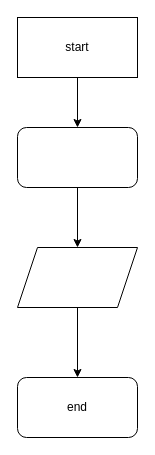
The diagram is 155 pixels wide and 455 high, and some of its shapes have lost their labels. Each missing label, with the box of its shape:
output array: (16, 246, 138, 308)
sort array: (16, 126, 138, 188)
